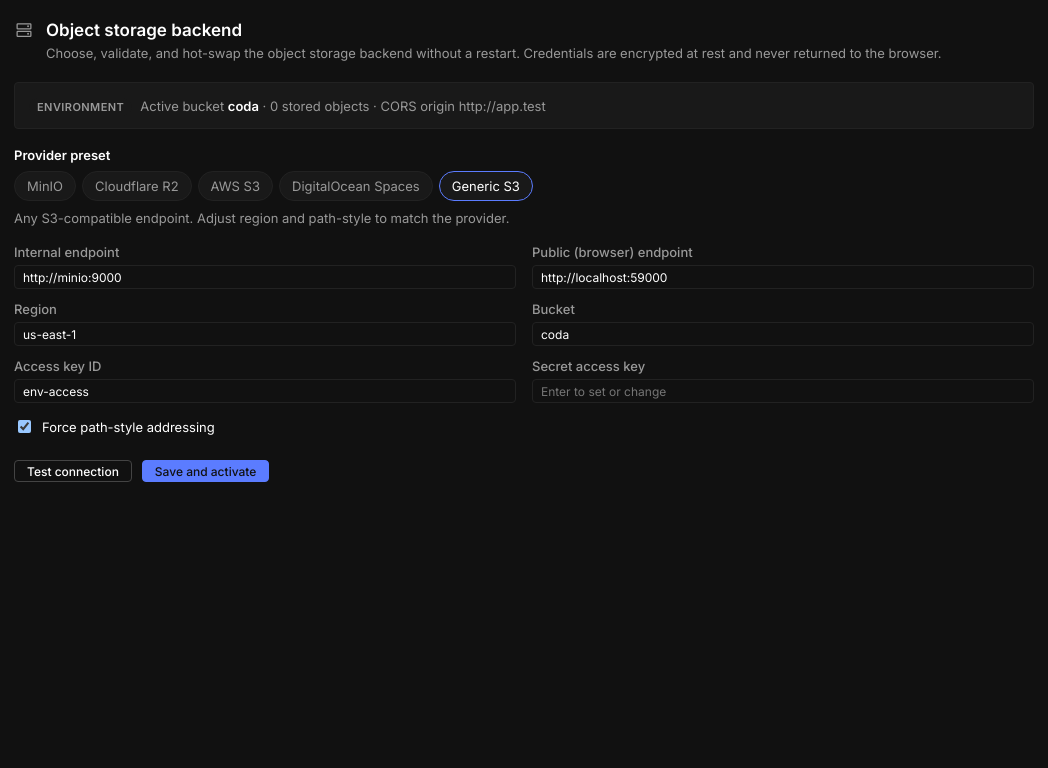
it: StorageSection › surfaces a validation start failure
This screenshot has width=1048, height=768.
Expected: the text "Environment" is shown, [29,98,132,116]
Step 1. Click the button "Test connection" → (73, 471), box [14,460,132,482]
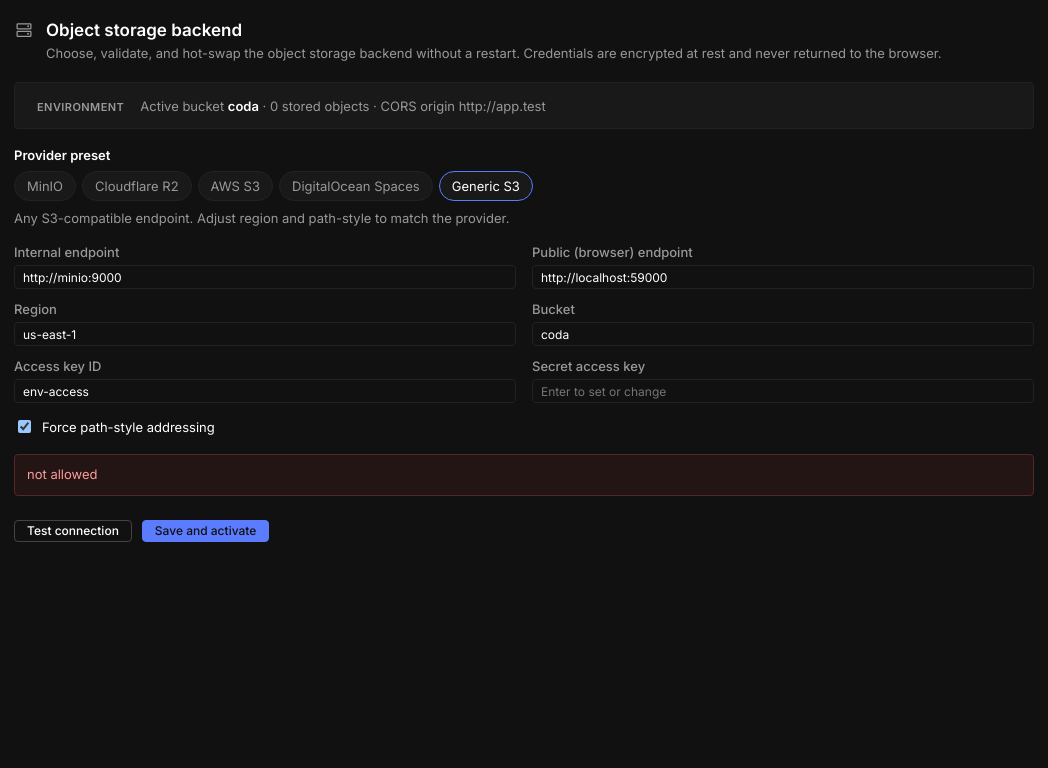
Result: the text "not allowed" is shown at [14,454,1034,496]
